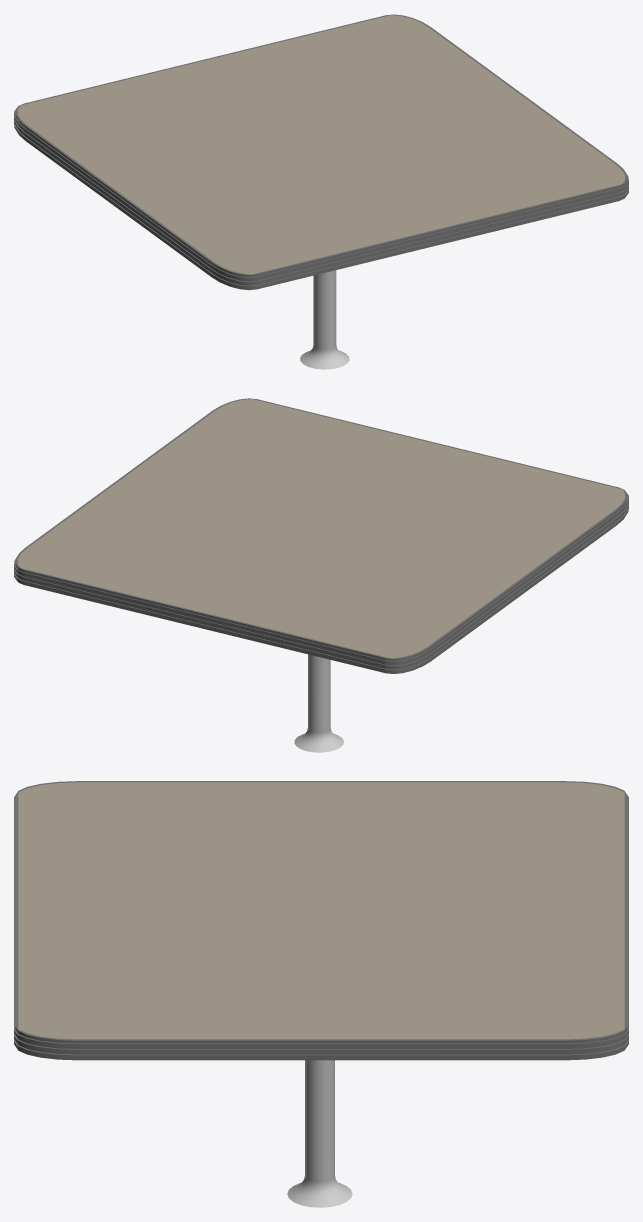
Rendered from Diner_Table_Big.fbx.
3 views of the same model, one above another, from view 1: azimuth 30°, elevation 25°; view 2: azimuth 150°, elevation 25°; view 3: azimuth 270°, elevation 25° (orthographic). The views are drawn at different scales.
Visible parts, largest first — view 1: pCube184; view 2: pCube184; view 3: pCube184.
Part boxes in pixels (x1,y1,x2,y2): pCube184: (14,14,628,369); pCube184: (14,398,628,752); pCube184: (14,781,628,1207).
Bounding box in the file's own units: 10.89 × 5.48 × 10.86.
